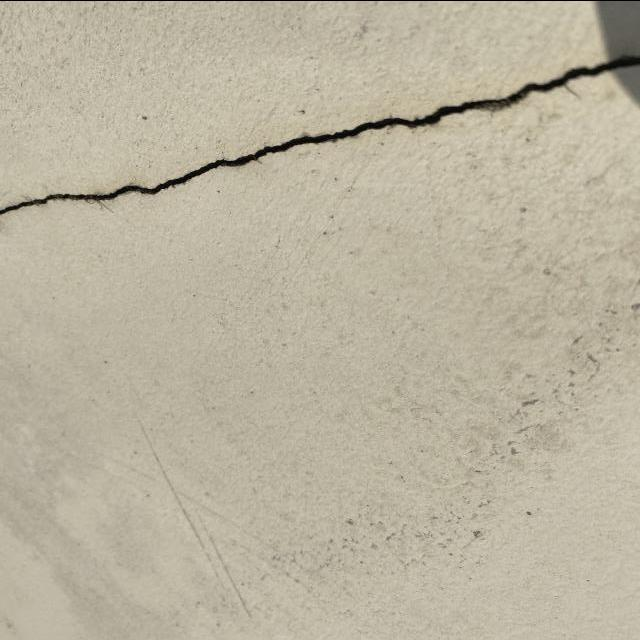SurfaceCrack: (120, 409, 278, 638)
